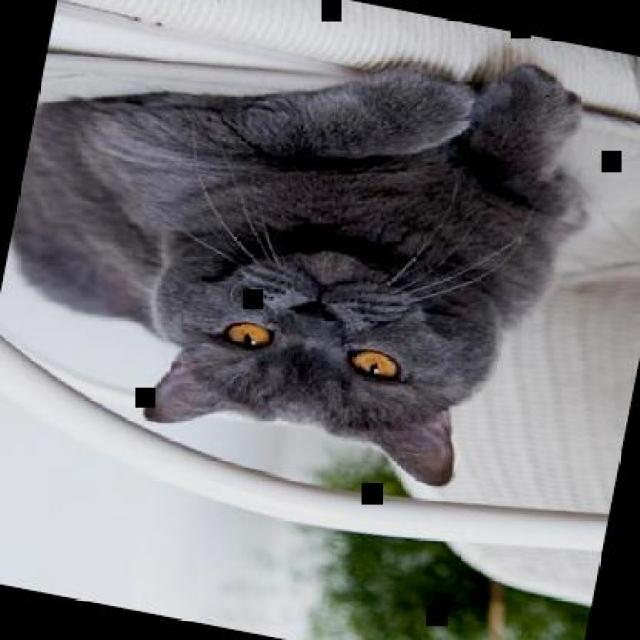cat: (0, 0, 612, 504)
